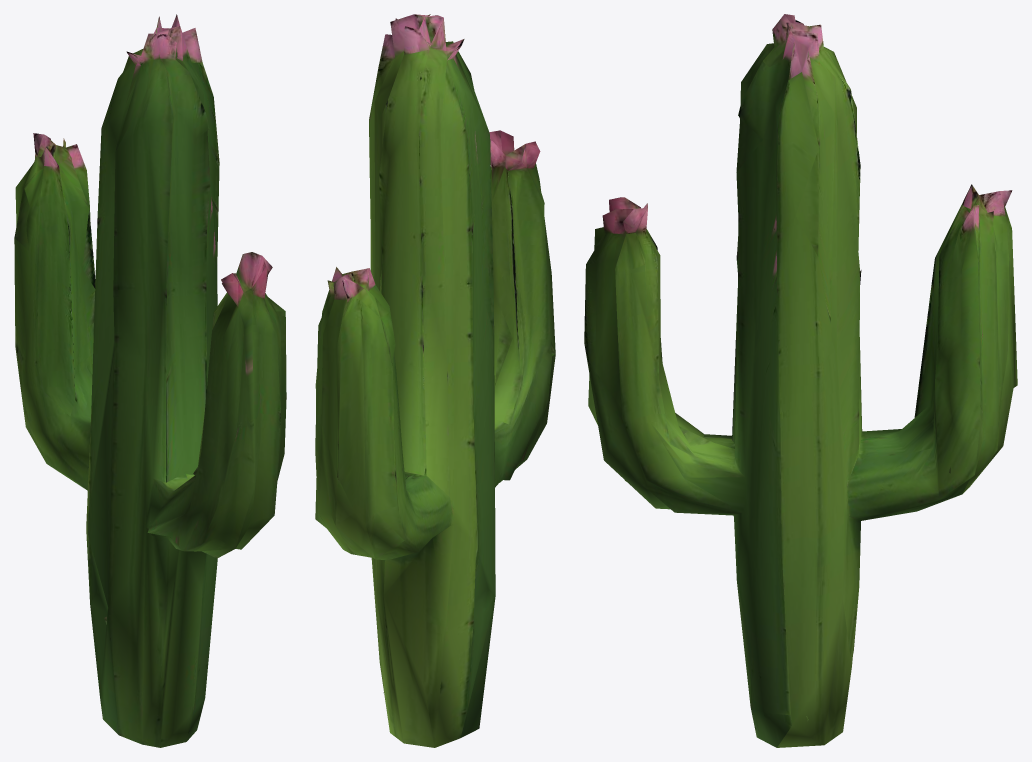
The model's file is saguaro.glb.
3 renders of one model, left to right at view 1: azimuth 30°, elevation 25°; view 2: azimuth 150°, elevation 25°; view 3: azimuth 270°, elevation 25°, orthographic.
Parts seen in each view (by area): view 1: geometry_0; view 2: geometry_0; view 3: geometry_0.
Part boxes in pixels (x1,y1,x2,y2): geometry_0: [14, 14, 286, 747]; geometry_0: [315, 14, 555, 747]; geometry_0: [584, 14, 1017, 747].
Size of the model in its own units: 0.6233 by 3.6 by 1.98.
Materials: 1 (1 with a texture image).
